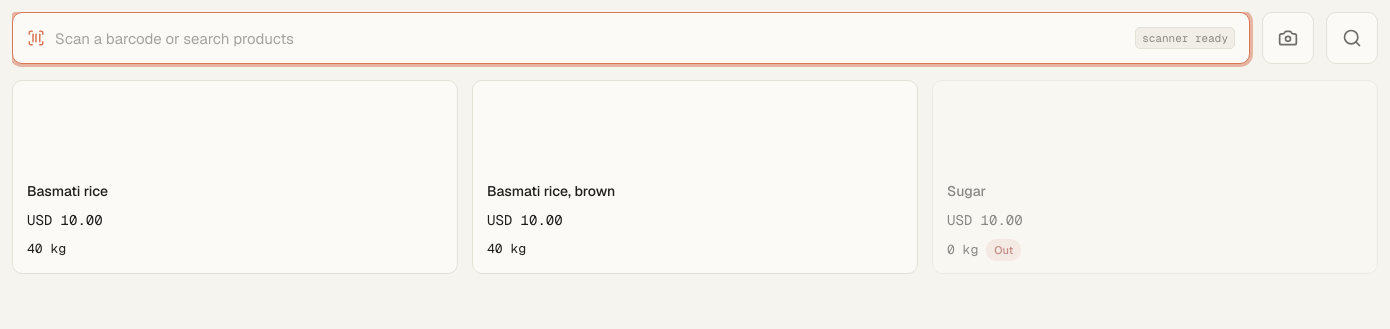
CatalogPane — the scanner › says so out loud when a scan matches nothing
The width and height of the screenshot is (1390, 329).
Type "6000000000000" into the field labelled "Scan a barcode or search products" at (590, 38), box [55, 13, 1125, 63]
Then press Enter
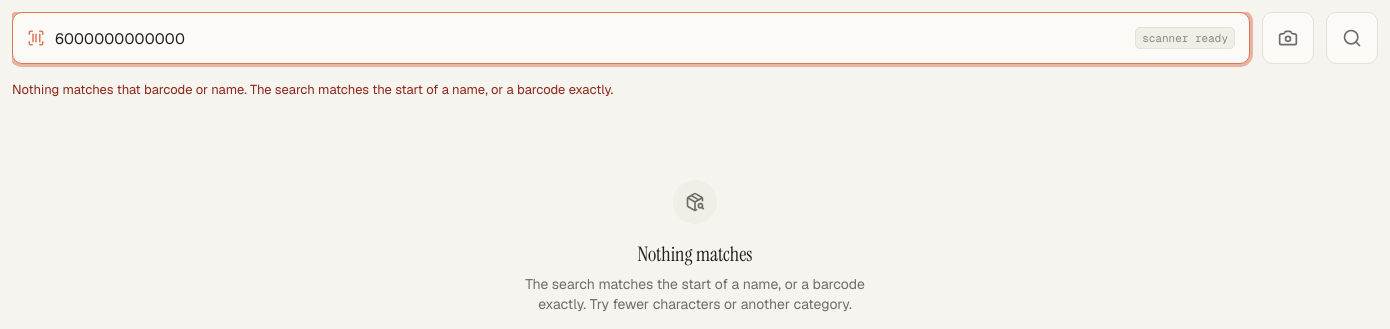
Expected: the text "Nothing matches" is shown, [12, 81, 613, 98]
